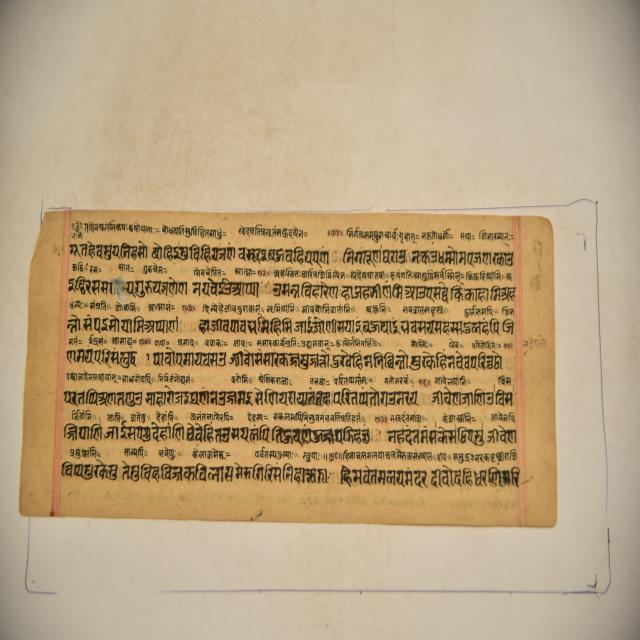text_paragraph: (22, 206, 554, 532)
